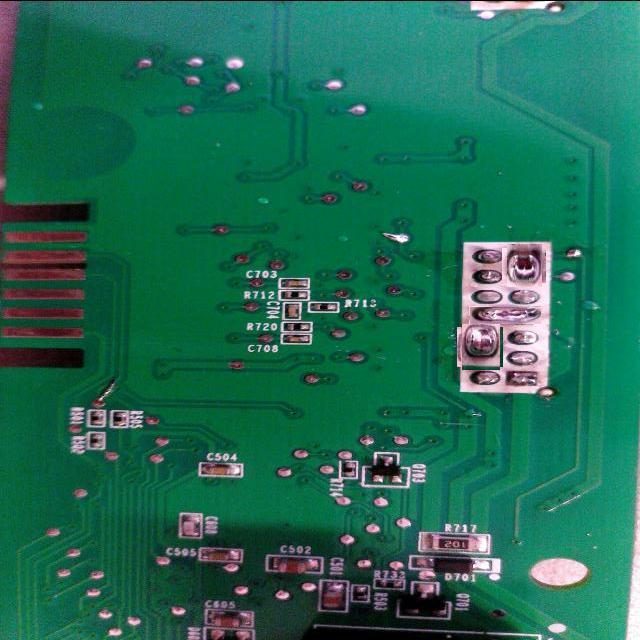Short_circuit: (458, 326, 502, 369), (505, 246, 544, 285), (469, 306, 541, 324)
